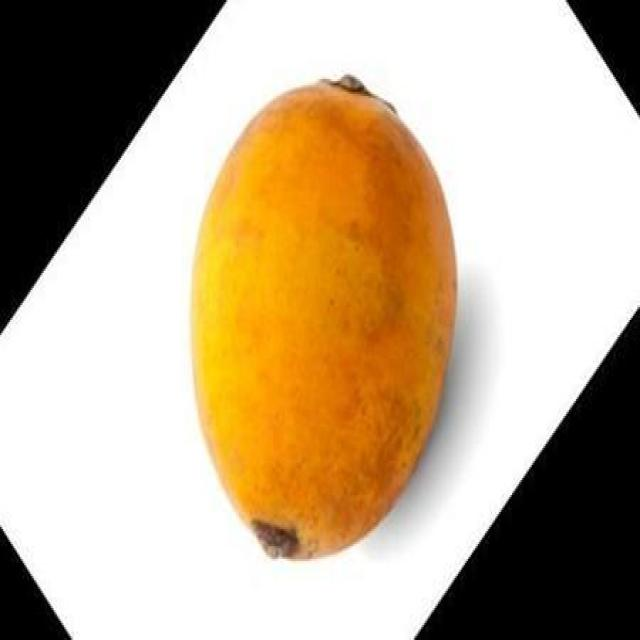good: (188, 77, 459, 563)
